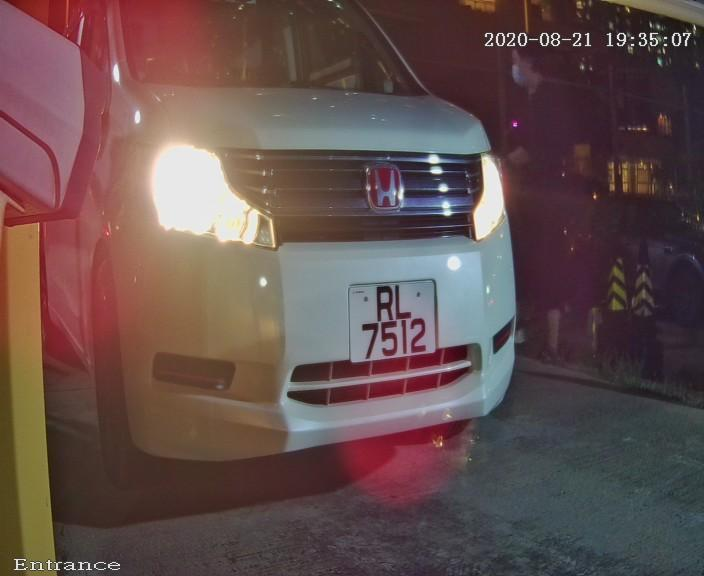Car: (23, 13, 591, 515)
License Plate: (337, 268, 447, 376)
